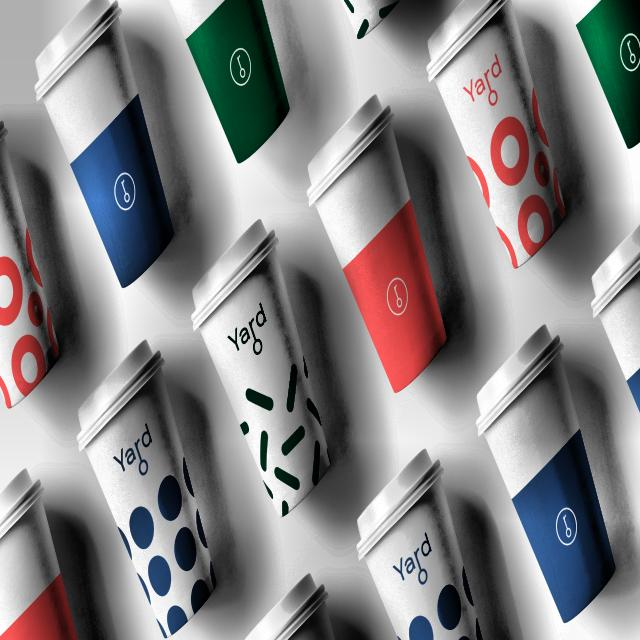Cup: (182, 207, 334, 533), (302, 84, 451, 404), (473, 306, 619, 632), (75, 324, 217, 640), (30, 0, 178, 297), (420, 0, 576, 279), (348, 430, 489, 640), (155, 0, 298, 171)
